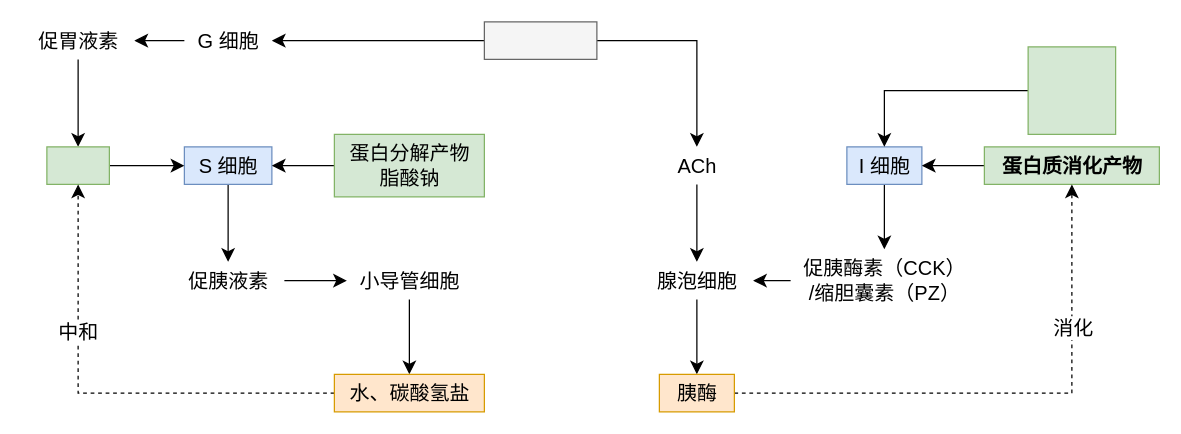
Image size: 1181x434. Some labels were removed from this diagram. Each missing label, with the centre of its shape:
"HCl" goes at pixel 77 165.
"脂酸钠 脂肪 盐酸" goes at pixel 1071 90.
"迷走神经" goes at pixel 540 40.
